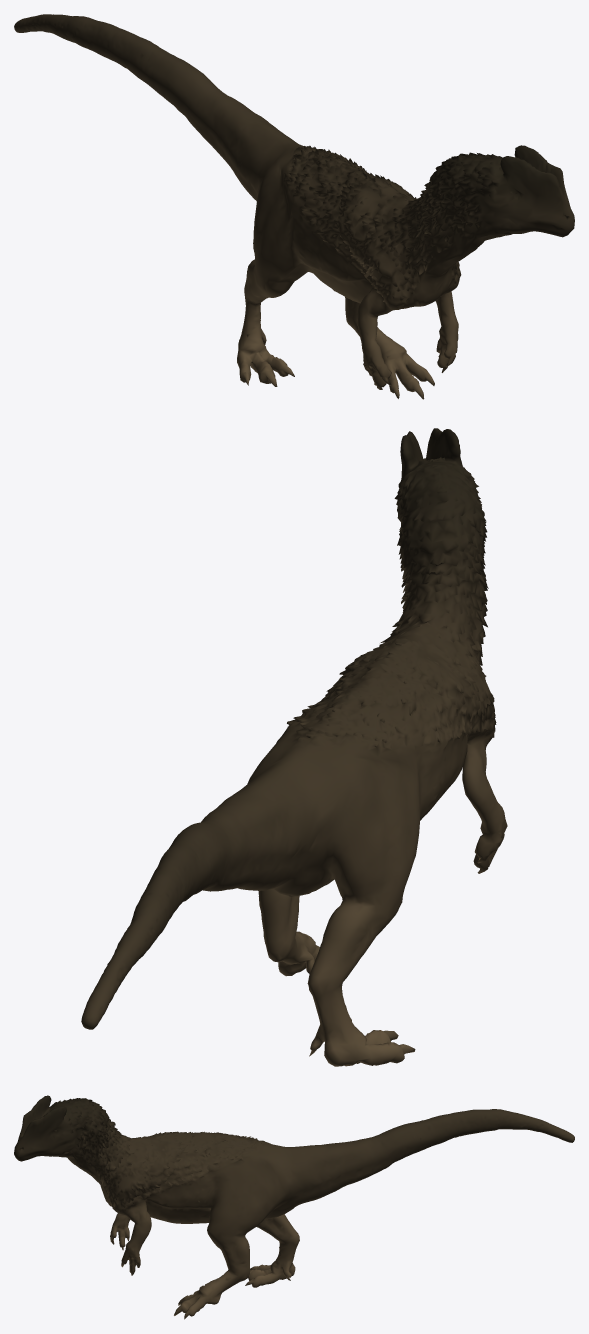
Rendered from dilophosaurus.glb.
The picture shows the model from 3 angles, top to bottom: view 1: azimuth 30°, elevation 25°; view 2: azimuth 150°, elevation 25°; view 3: azimuth 270°, elevation 25°; orthographic projection. The views are drawn at different scales.
Visible parts, largest first — view 1: dilophosaurus_posed; view 2: dilophosaurus_posed; view 3: dilophosaurus_posed.
Boxes of the visible parts, x1=… form: dilophosaurus_posed: x1=14, y1=14, x2=574, y2=399; dilophosaurus_posed: x1=81, y1=428, x2=507, y2=1066; dilophosaurus_posed: x1=14, y1=1095, x2=574, y2=1319.
Bounding box in the file's own units: 43.23 × 78.01 × 182.
